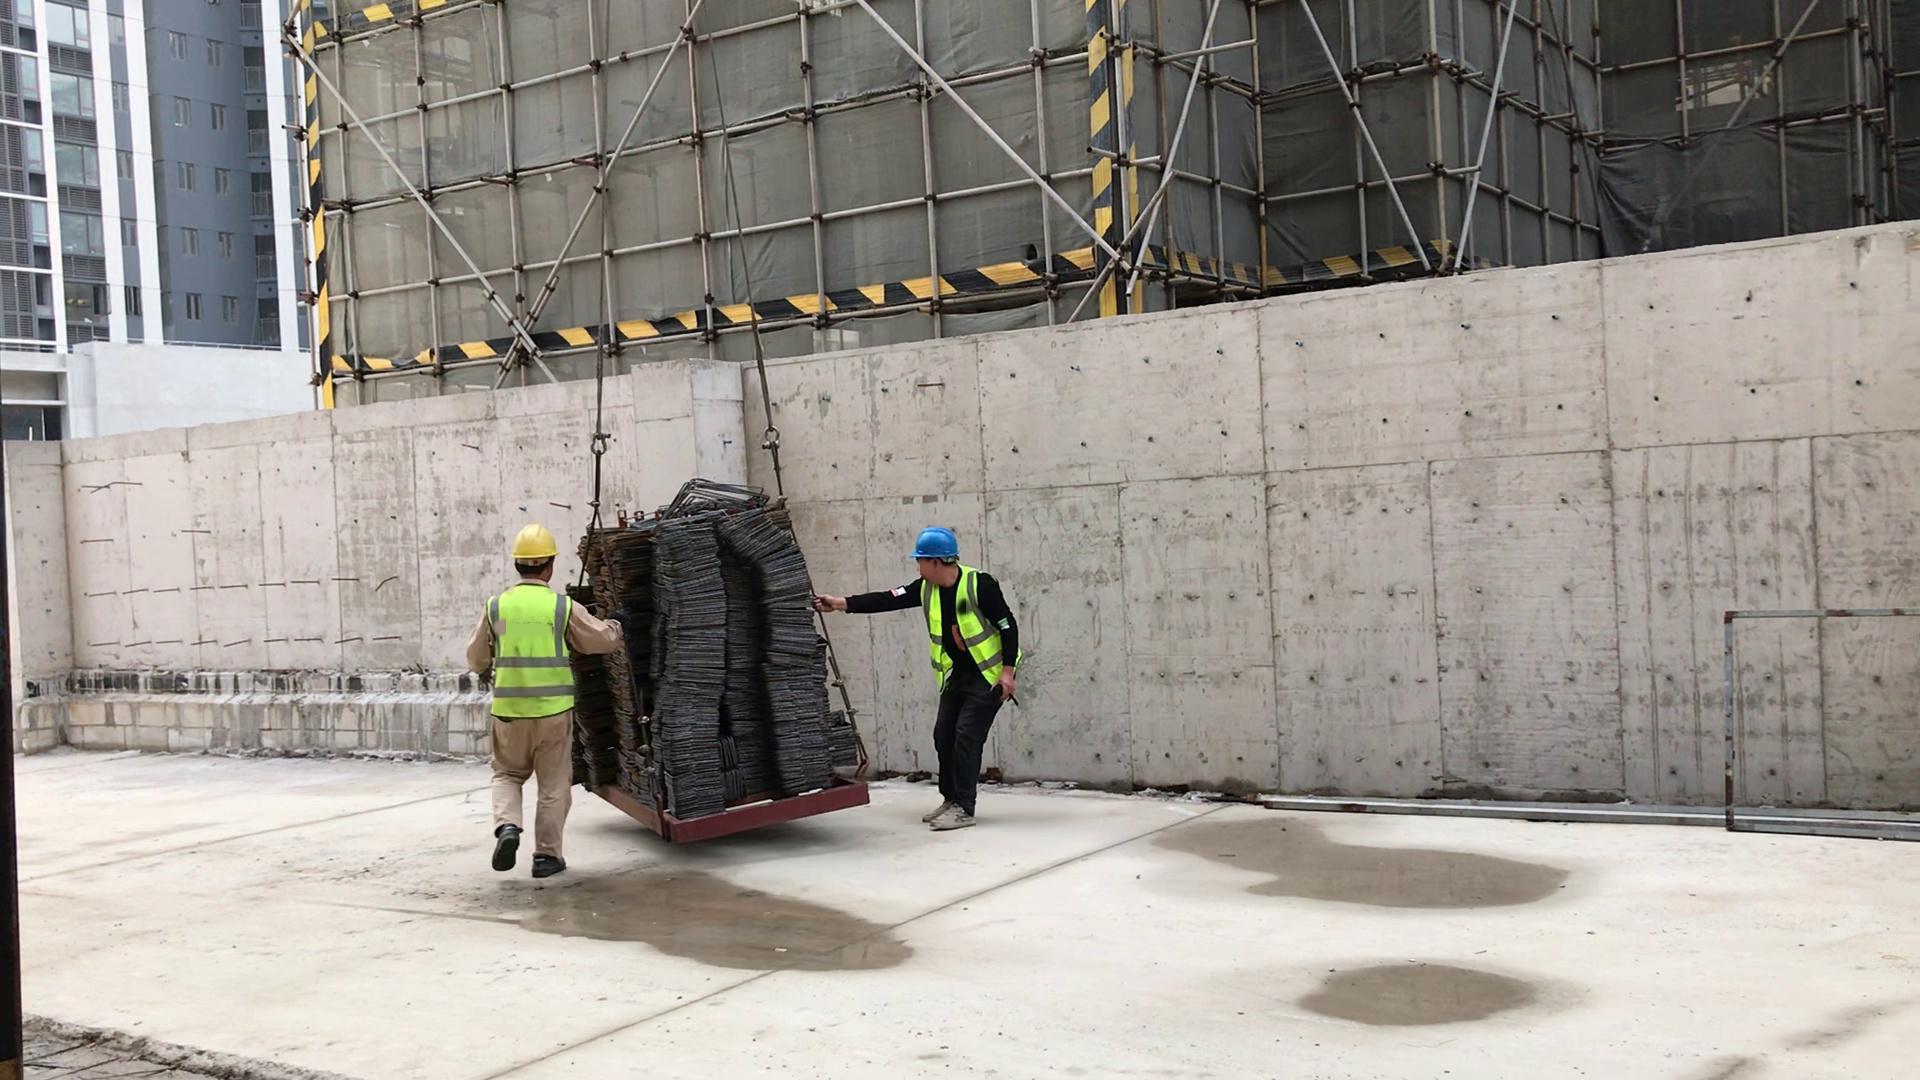helmet: (502, 516, 582, 597), (904, 517, 967, 562)
person: (829, 503, 1022, 834), (480, 546, 617, 876)
vest: (485, 592, 586, 720), (907, 580, 1009, 678)
